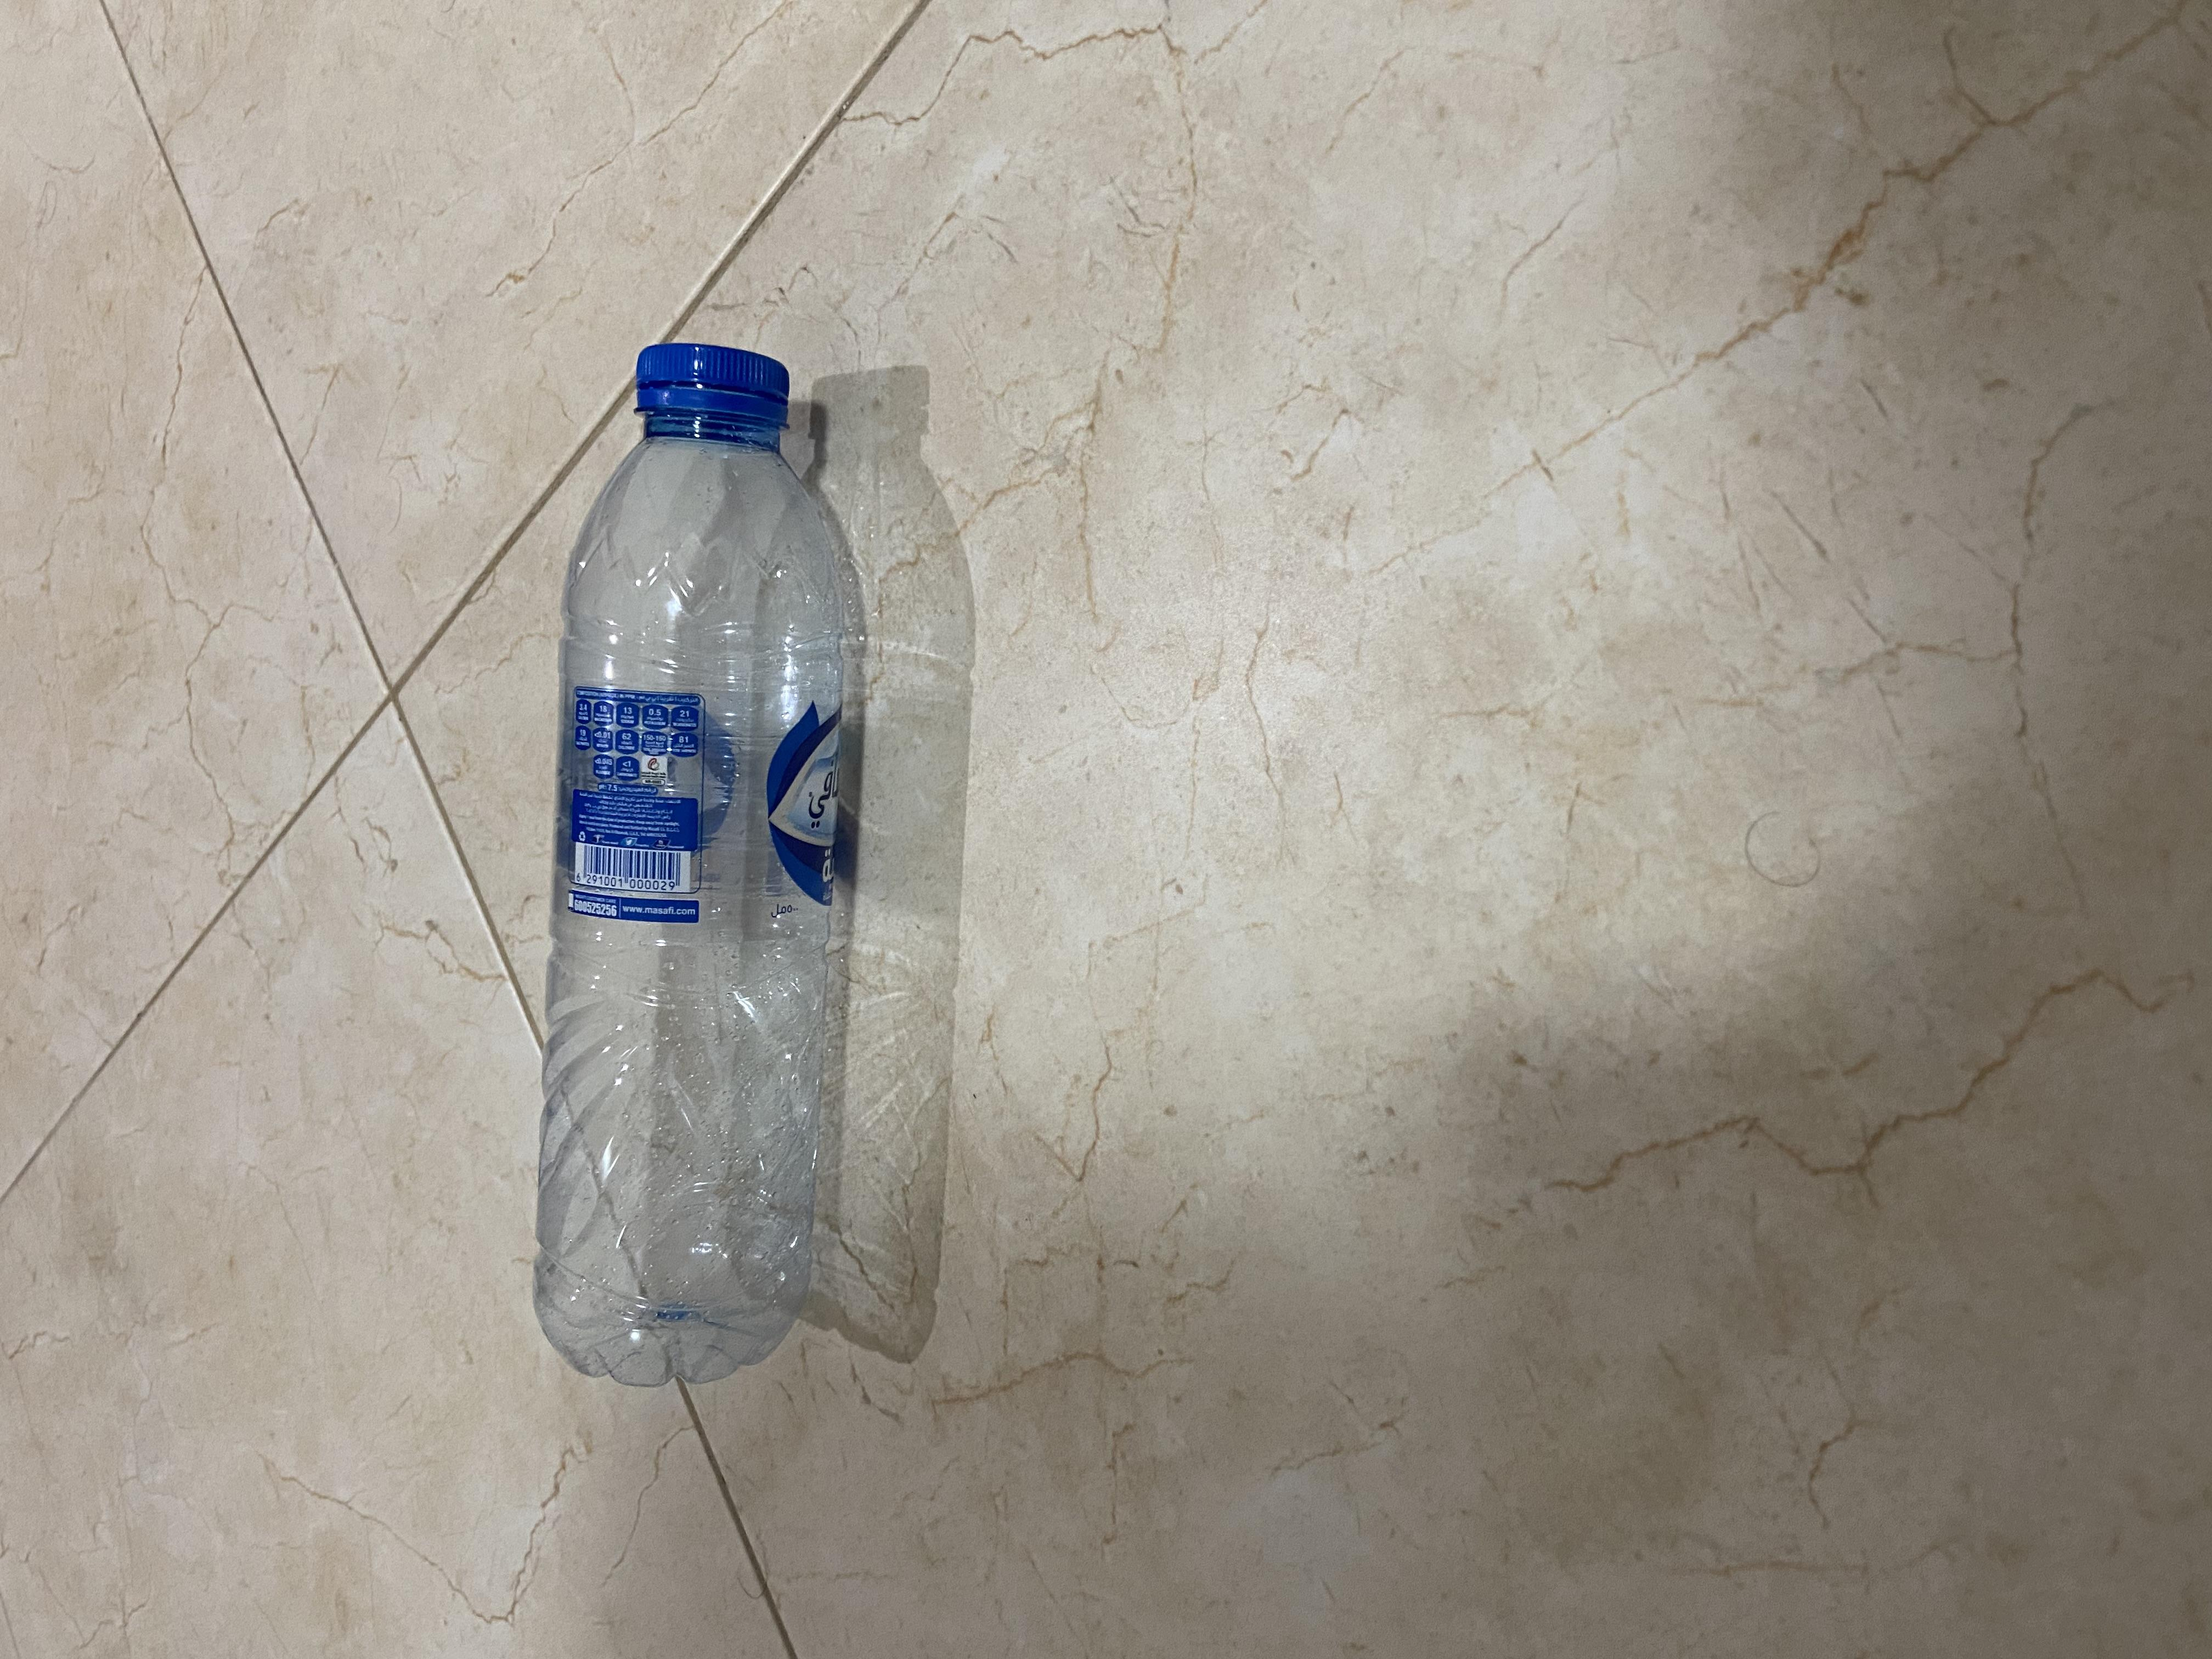bottle: (310, 380, 1782, 680)
